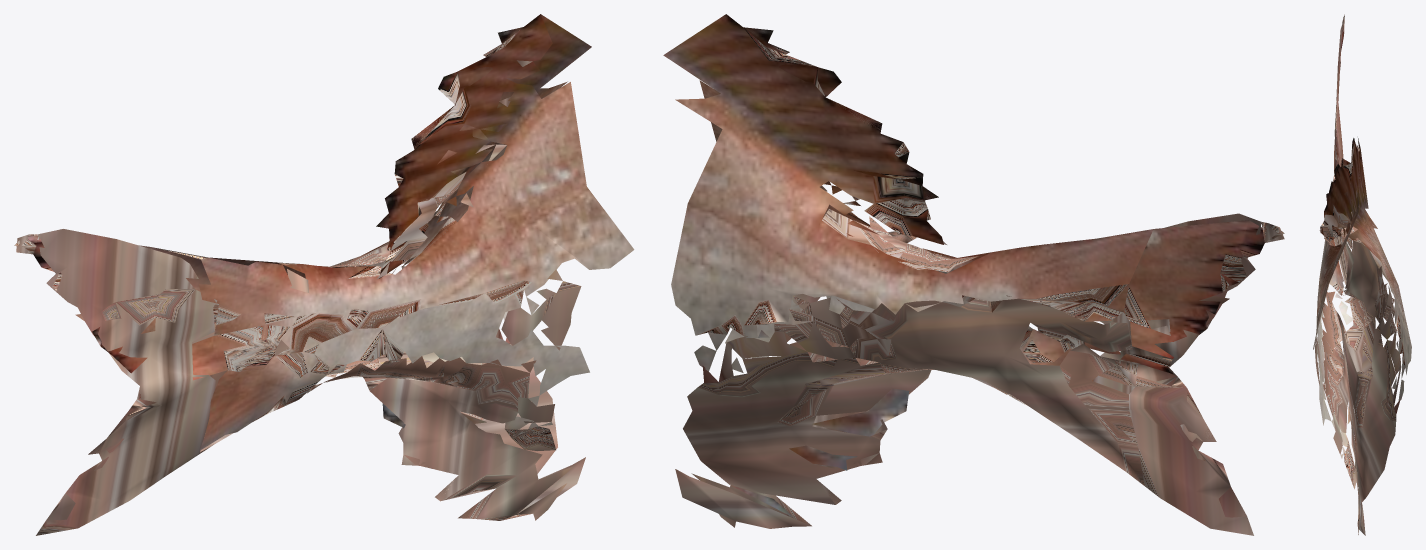
Rendered from crimson_b.glb.
3 views of the same model, side by side, from view 1: azimuth 30°, elevation 25°; view 2: azimuth 150°, elevation 25°; view 3: azimuth 270°, elevation 25° (orthographic). The views are drawn at different scales.
Visible parts, largest first — view 1: crimson_b; view 2: crimson_b; view 3: crimson_b.
Part boxes in pixels (bbox=[...]): crimson_b: bbox=[14, 14, 634, 535]; crimson_b: bbox=[663, 14, 1284, 535]; crimson_b: bbox=[1313, 14, 1411, 535].
Size of the model in its own units: 0.2285 by 0.1833 by 0.0422.
1 material, 1 textured.
